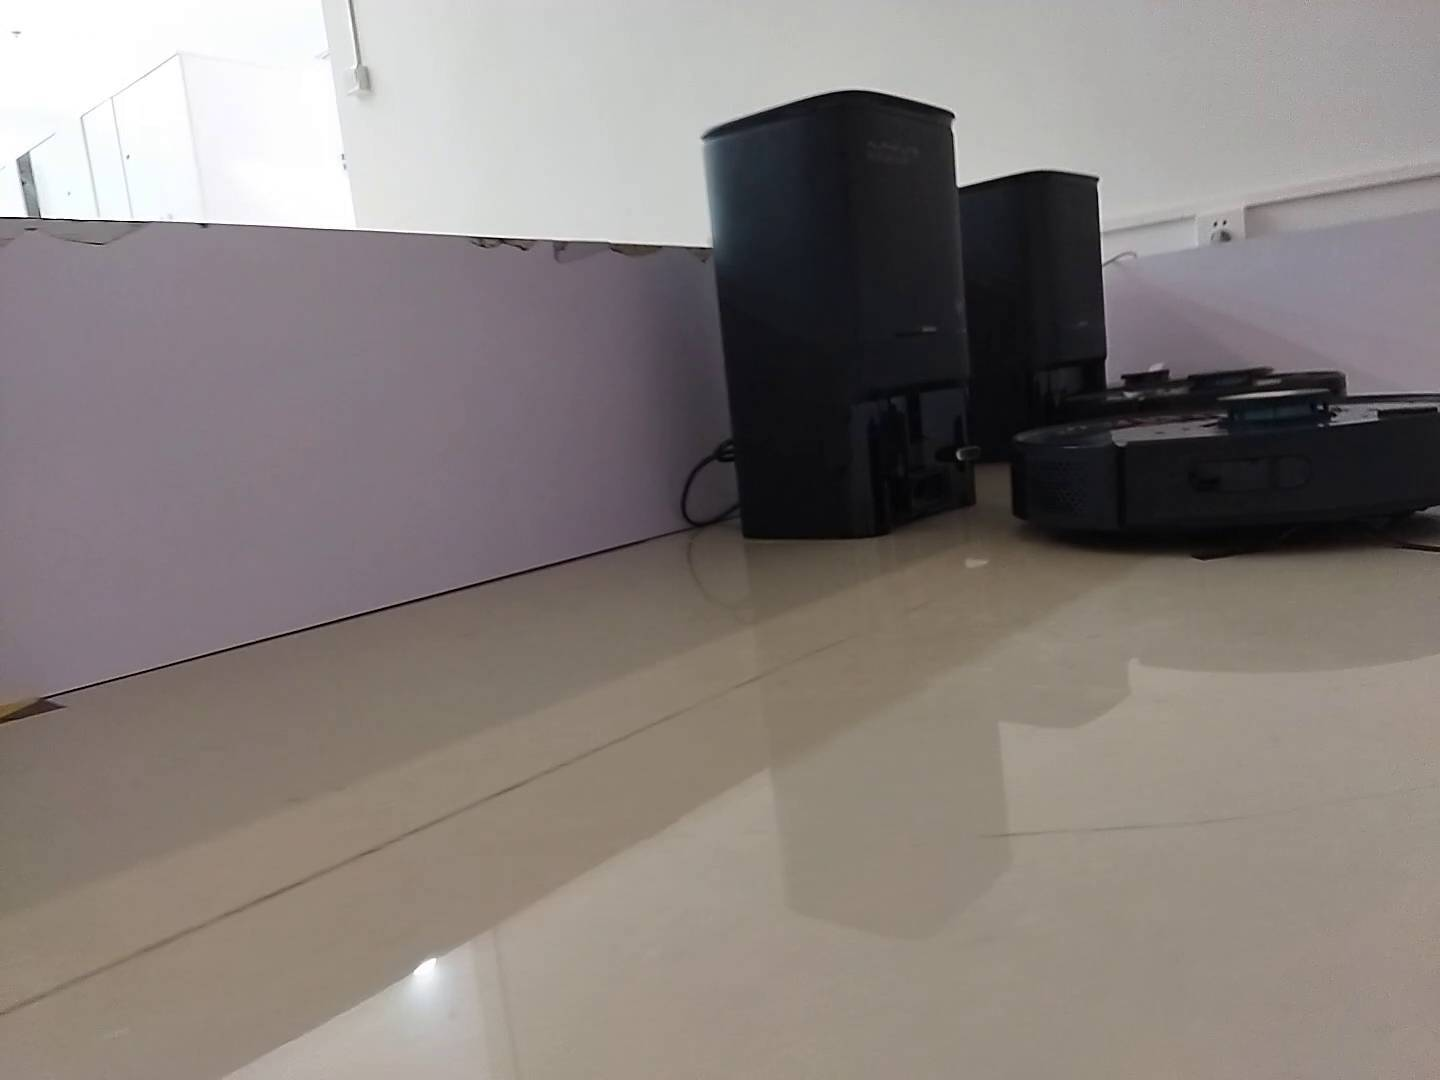dust collecting barrel: (703, 88, 979, 542), (962, 169, 1112, 461)
